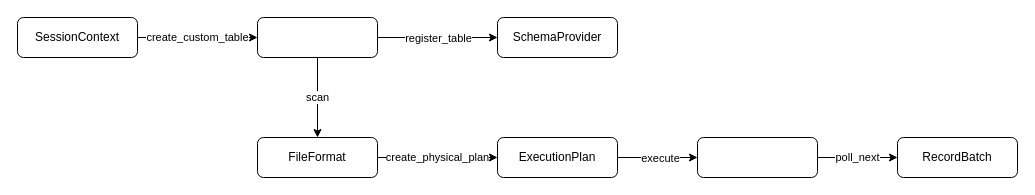
The diagram is 1035 pixels wide and 195 high, and some of its shapes have lost their labels. Each missing label, with the box of its shape:
FileSteam: (696, 136, 818, 178)
TableProvider: (256, 16, 378, 58)
